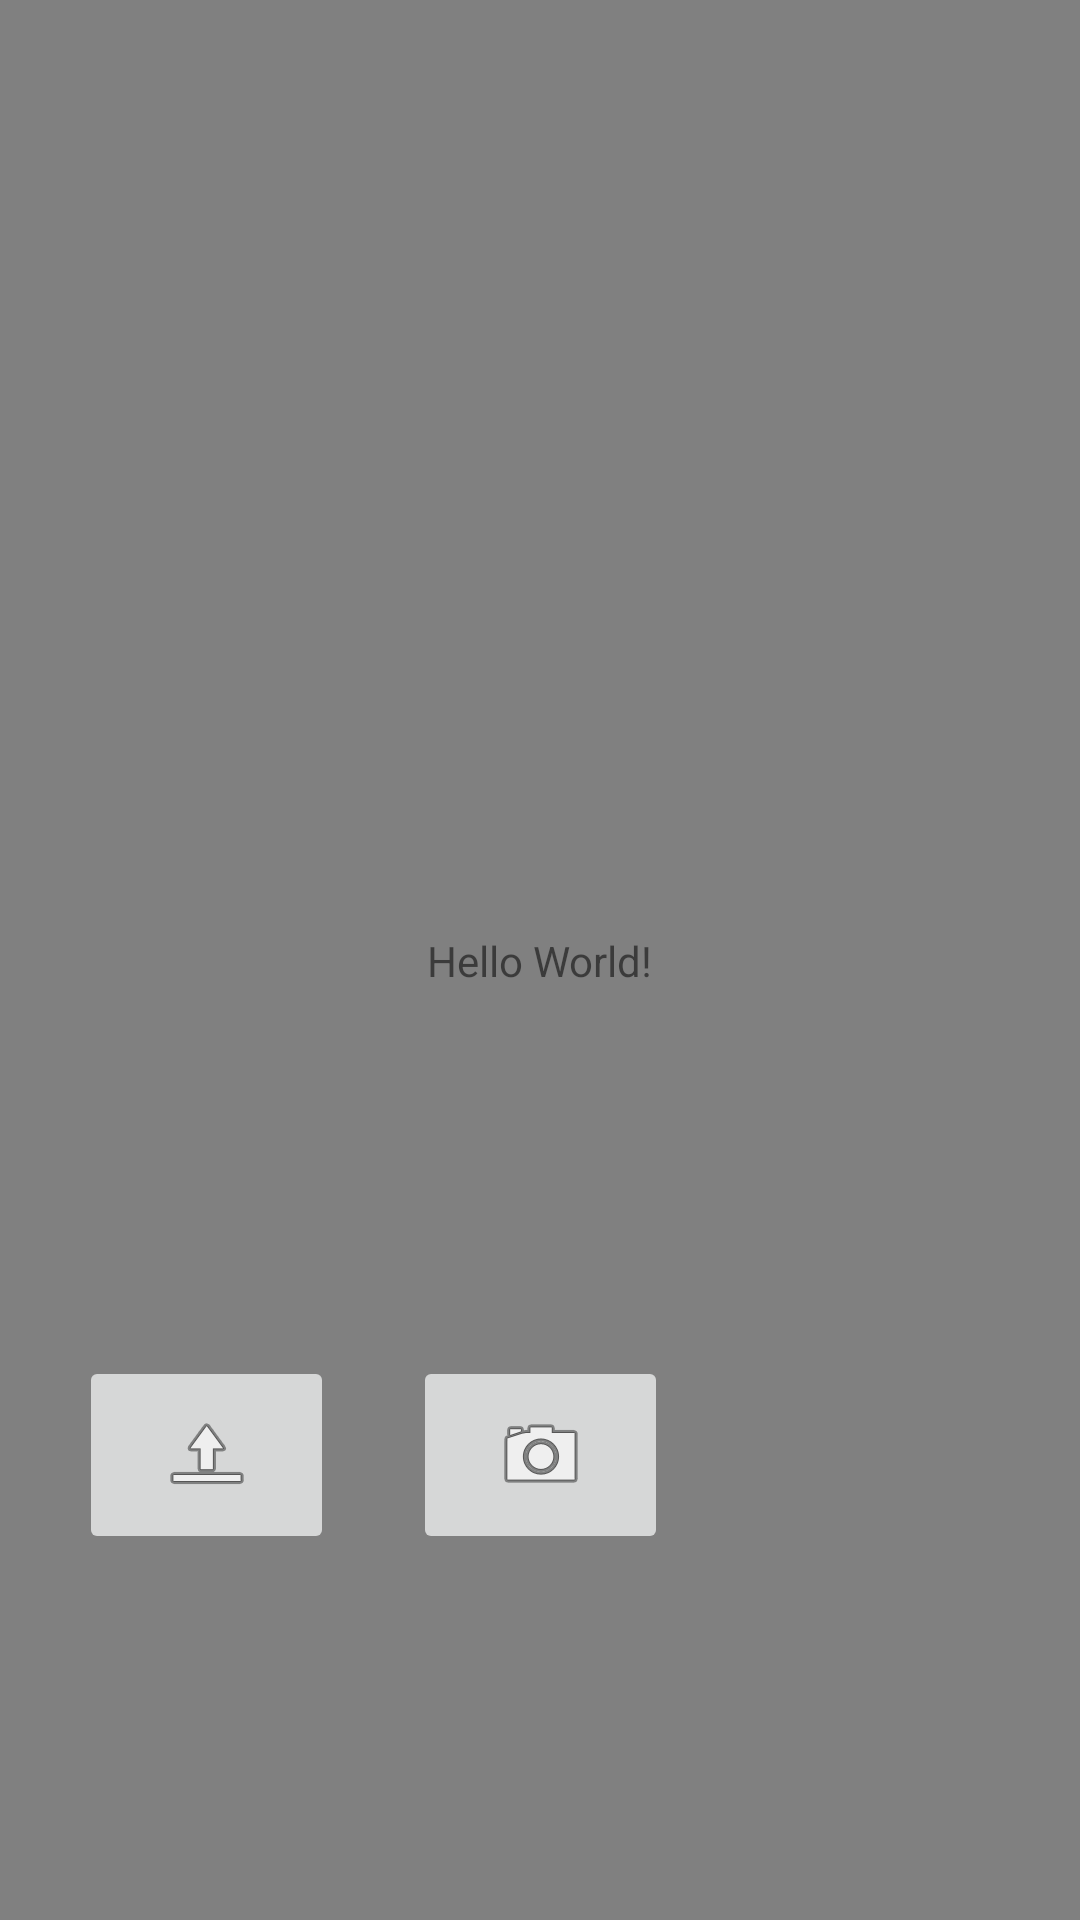

Screen size 1080px x 1920px. Icon name, then its box in pixels as (x1, y1, x2, y2):
camera: (425, 1374, 656, 1536)
upload: (91, 1374, 322, 1536)
